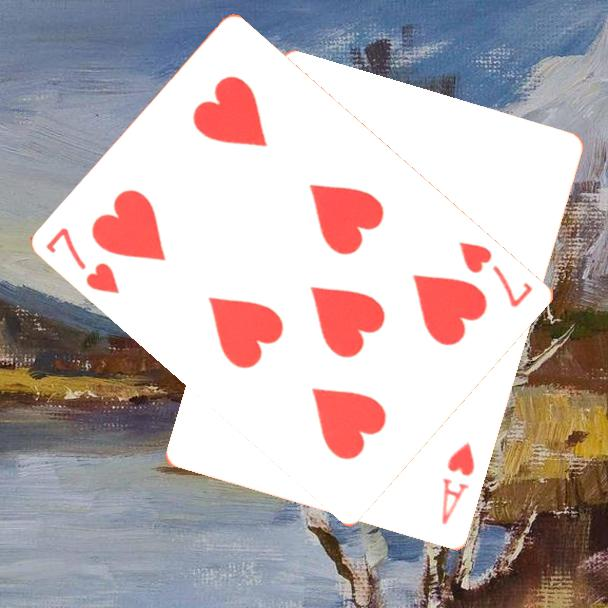h01: (438, 438, 478, 528)
h07: (455, 237, 536, 311), (42, 223, 123, 297)
